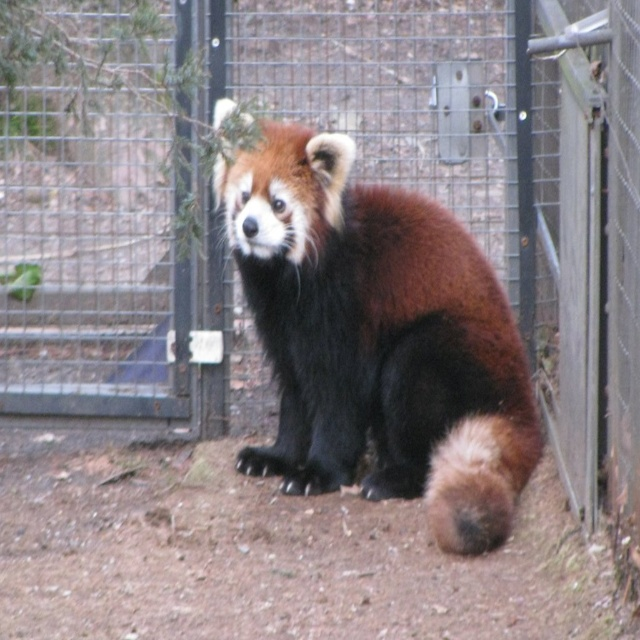Bear: (205, 97, 544, 557)
